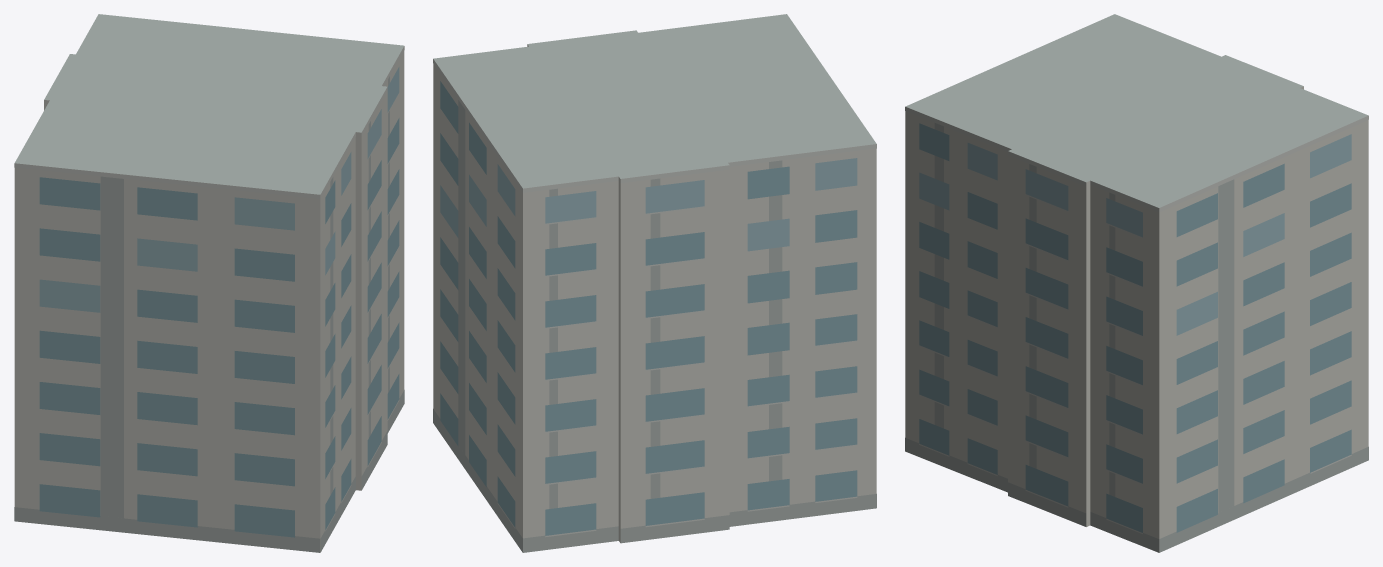
File: survey-upis-32809888.glb
3 renders of one model, left to right at view 1: azimuth 30°, elevation 25°; view 2: azimuth 150°, elevation 25°; view 3: azimuth 270°, elevation 25°, orthographic. The views are drawn at different scales.
Parts seen in each view (by area): view 1: survey-upis-32809888.tmp; view 2: survey-upis-32809888.tmp; view 3: survey-upis-32809888.tmp.
Boxes of the visible parts, x1=… form: survey-upis-32809888.tmp: x1=14, y1=14, x2=404, y2=552; survey-upis-32809888.tmp: x1=433, y1=14, x2=876, y2=552; survey-upis-32809888.tmp: x1=905, y1=14, x2=1368, y2=552.
Size of the model in its own units: 23.85 by 19.75 by 24.07.
